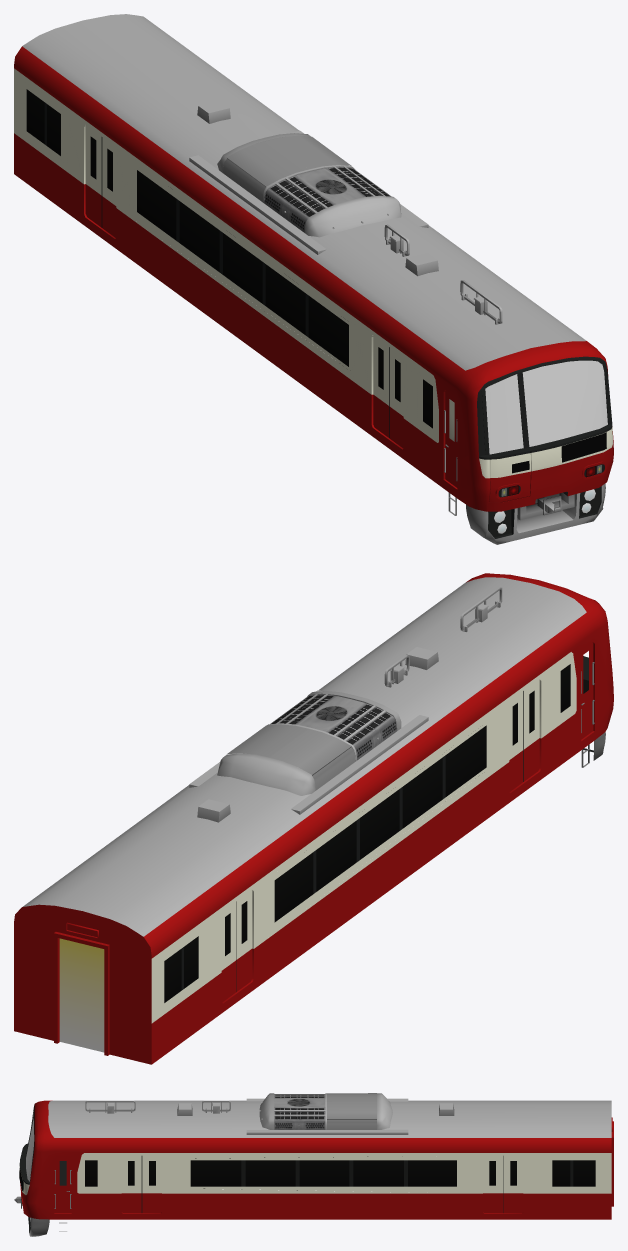
3 renders of one model, top to bottom at view 1: azimuth 30°, elevation 25°; view 2: azimuth 150°, elevation 25°; view 3: azimuth 270°, elevation 25°, orthographic. The views are drawn at different scales.
Parts seen in each view (by area): view 1: obj10; view 2: obj10; view 3: obj10.
Boxes of the visible parts, x1,y1,x2,y2 form: obj10: [14, 14, 613, 544]; obj10: [14, 573, 613, 1064]; obj10: [14, 1093, 613, 1236].
Bounding box in the file's own units: 6.5 × 8.69 × 39.05.
Materials: 21 (20 with a texture image).
